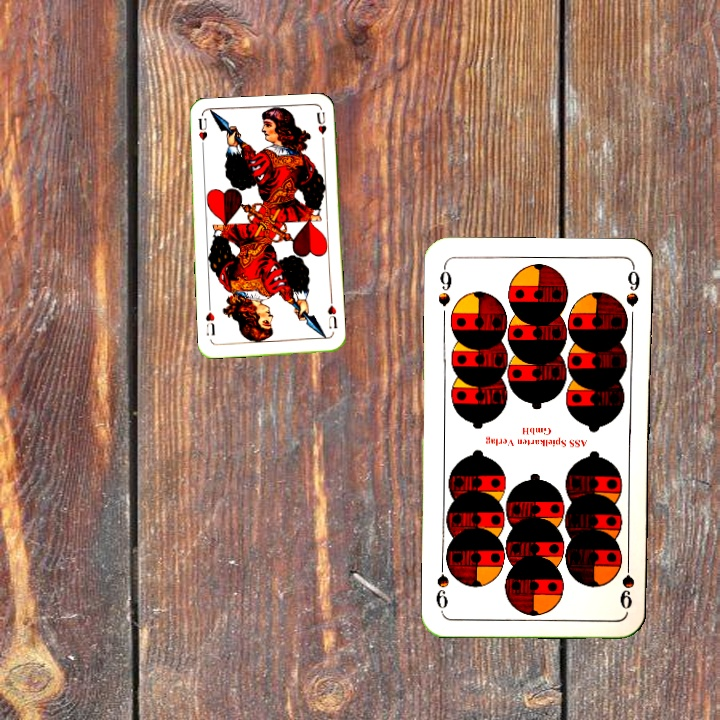HU: (194, 114, 210, 154), (324, 301, 339, 331)
S9: (616, 553, 637, 612), (435, 262, 455, 309)
